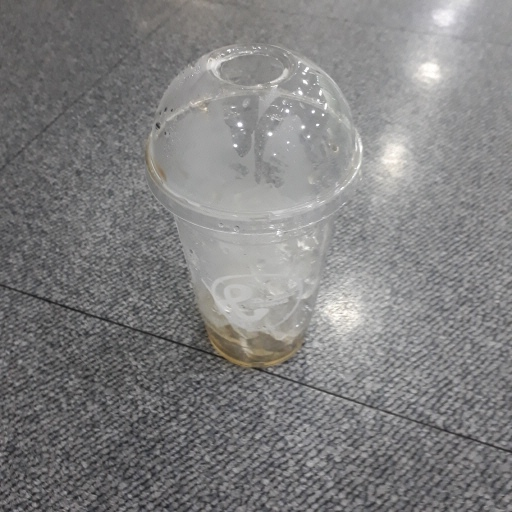Plastic_2: (145, 42, 366, 368)
